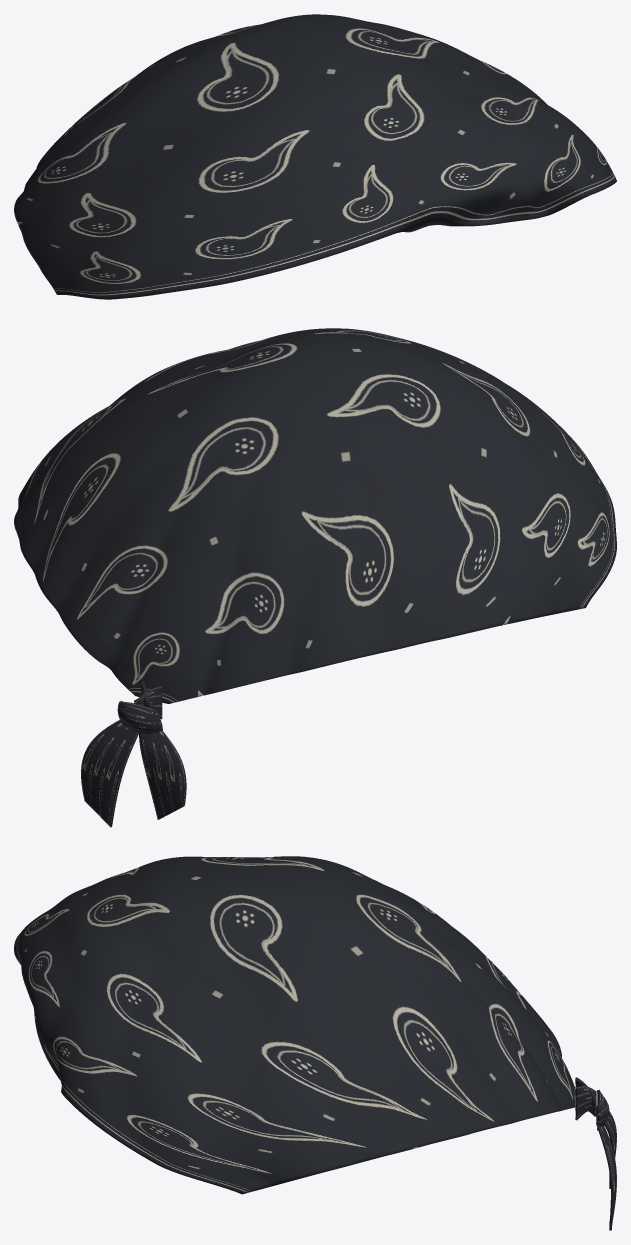
The model's file is Feminine-curls-bandana.glb.
3 views of the same model, one above another, from view 1: azimuth 30°, elevation 25°; view 2: azimuth 150°, elevation 25°; view 3: azimuth 270°, elevation 25° (orthographic).
Visible parts, largest first — view 1: Bandana / triangular crown scarf; view 2: Bandana / triangular crown scarf, Bandana / hemmed tail 1, Bandana / hemmed tail -1, Bandana / rounded knot fold; view 3: Bandana / triangular crown scarf, Bandana / hemmed tail 1.
Part boxes in pixels (x1,y1,x2,y2): Bandana / triangular crown scarf: (14,14,616,299); Bandana / triangular crown scarf: (14,328,616,703); Bandana / hemmed tail 1: (81,720,138,827); Bandana / hemmed tail -1: (139,731,186,819); Bandana / rounded knot fold: (117,701,162,734); Bandana / triangular crown scarf: (14,856,576,1194); Bandana / hemmed tail 1: (596,1114,616,1230).
Bounding box in the file's own units: 0.7709 × 0.4687 × 0.7569.
1 material, 1 textured.
